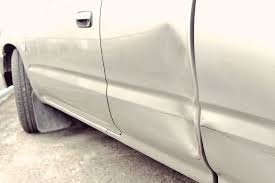Dent: (148, 20, 199, 154)
